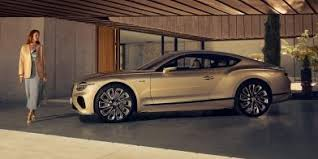car: (70, 50, 289, 122)
